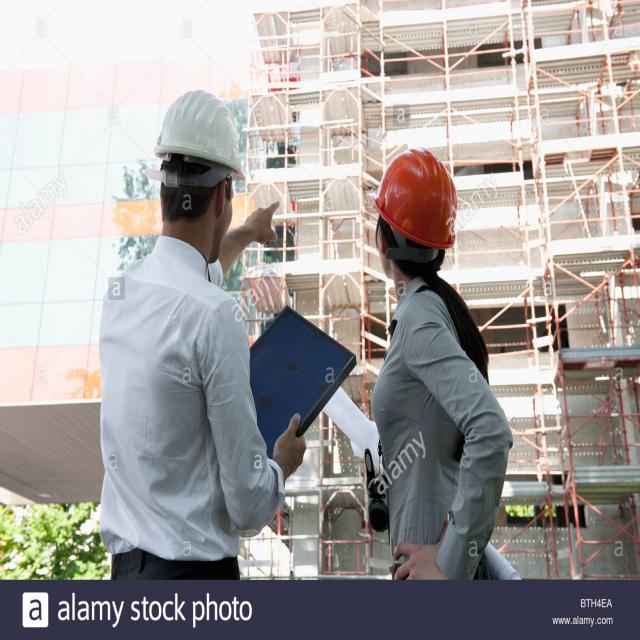Safety-Helmet: (369, 141, 463, 249), (152, 85, 246, 175)
